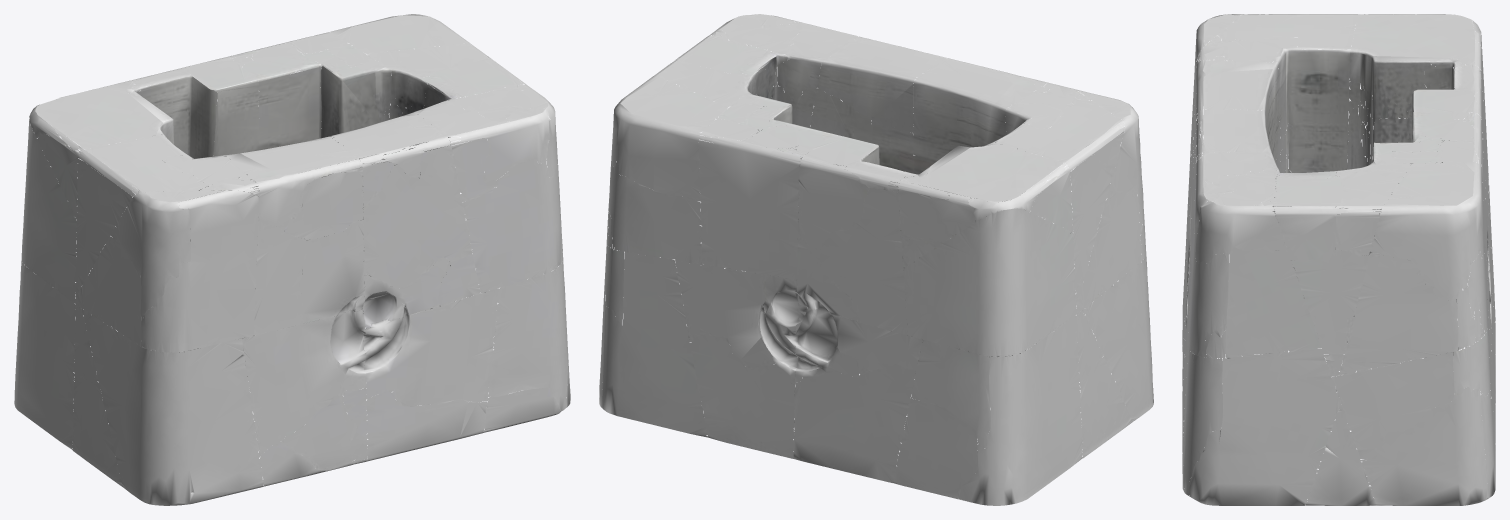
File: station-accueil.glb
3 renders of one model, left to right at view 1: azimuth 30°, elevation 25°; view 2: azimuth 150°, elevation 25°; view 3: azimuth 270°, elevation 25°, orthographic.
Visible parts, largest first — view 1: tripo_node_6602edf9-68b7-4907-8a56-b7965a80dbd2; view 2: tripo_node_6602edf9-68b7-4907-8a56-b7965a80dbd2; view 3: tripo_node_6602edf9-68b7-4907-8a56-b7965a80dbd2.
Part boxes in pixels (x1,y1,x2,y2): tripo_node_6602edf9-68b7-4907-8a56-b7965a80dbd2: [14, 14, 570, 505]; tripo_node_6602edf9-68b7-4907-8a56-b7965a80dbd2: [599, 14, 1153, 505]; tripo_node_6602edf9-68b7-4907-8a56-b7965a80dbd2: [1182, 14, 1495, 505].
Size of the model in its own units: 0.9803 by 0.6491 by 0.6288.
Materials: 1 (1 with a texture image).
